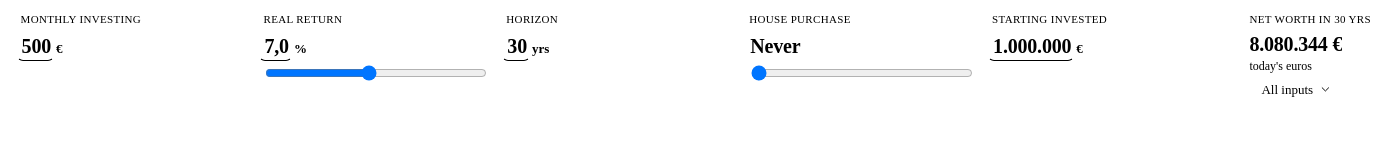
LeversBar › a typed field › ignores a number with a letter in it rather than reading the digits out of it
Clear the field named "Monthly investing" at point(35, 46), box [17,31,54,61]
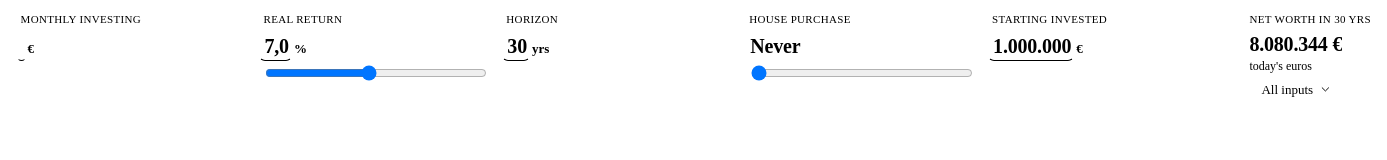
Type "250k" into the field named "Monthly investing".
click(21, 46); type("250k")  # box [17,31,26,61]
Then press Enter
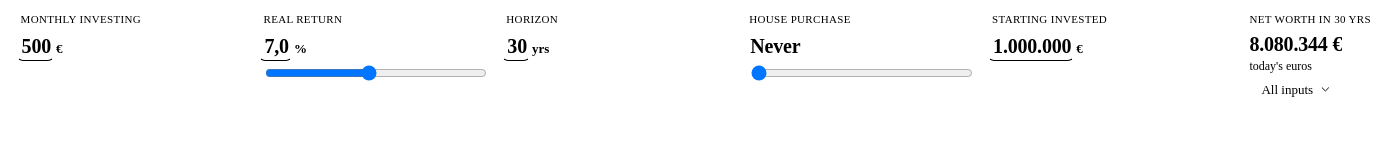
Clear the field named "Horizon (years)" at point(516, 46), box [502,31,530,61]
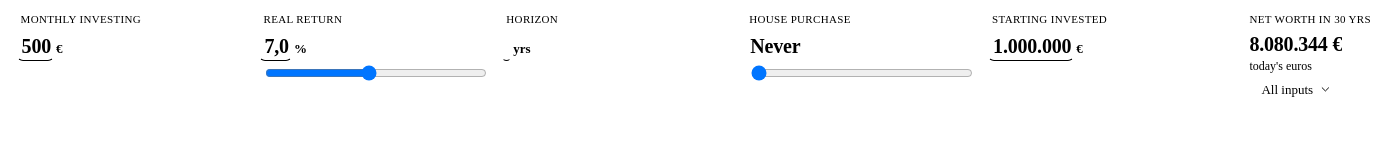
Type "1e9" into the field named "Horizon (years)".
click(507, 46); type("1e9")  # box [502,31,511,61]
Then press Enter
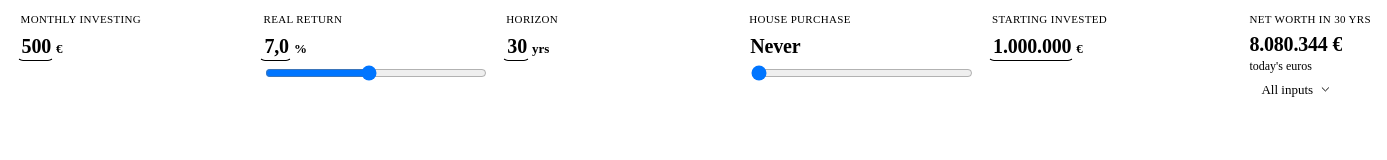
Clear the field named "Real return (%/yr, after inflation)" at point(276, 46), box [260,31,292,61]
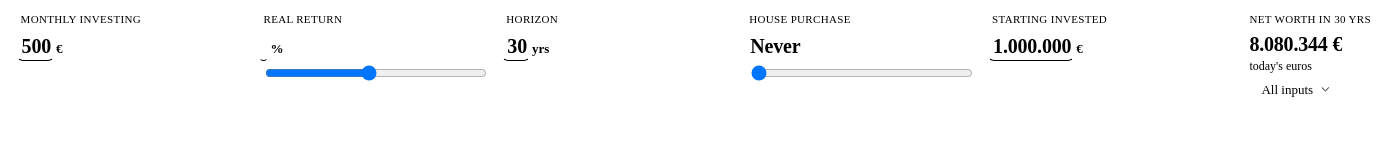
Type "about 4" into the field named "Real return (%/yr, after inflation)".
click(264, 46); type("about 4")  # box [260,31,268,61]
Then press Enter
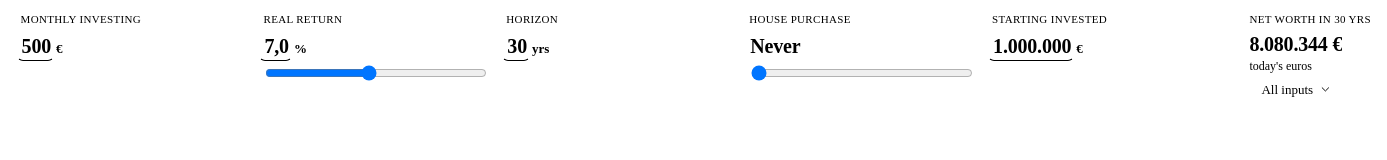
Expected: the field named "Monthly investing" holds "500", [17,31,54,61]
Expected: the field named "Horizon (years)" holds "30", [502,31,530,61]
Expected: the field named "Real return (%/yr, after inflation)" holds "7,0", [260,31,292,61]
